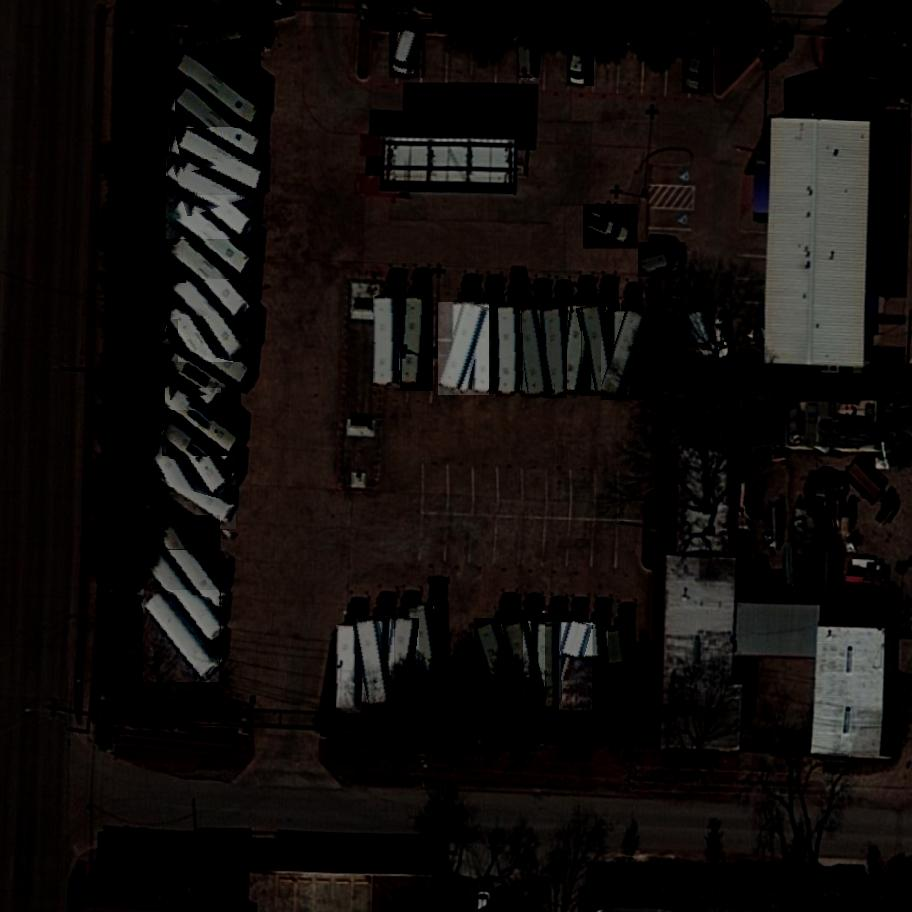large-vehicle: (164, 156, 257, 240), (142, 451, 240, 530), (166, 197, 259, 280), (159, 311, 257, 389), (167, 228, 251, 319), (141, 591, 223, 683), (145, 550, 223, 644), (172, 50, 265, 127), (149, 516, 224, 611), (164, 129, 268, 196), (176, 269, 250, 363), (170, 92, 267, 159), (157, 384, 244, 457), (164, 409, 232, 498), (438, 301, 490, 396), (601, 310, 654, 401), (406, 603, 449, 710), (474, 619, 524, 711), (546, 621, 594, 712), (163, 344, 226, 410), (503, 615, 546, 711), (582, 303, 621, 397), (356, 616, 395, 708), (515, 306, 553, 399), (560, 302, 597, 395), (397, 296, 433, 391), (383, 617, 420, 708), (374, 295, 402, 389), (604, 626, 633, 714), (580, 621, 608, 711), (542, 308, 568, 399), (336, 626, 361, 713), (497, 307, 521, 397), (474, 304, 498, 394), (535, 624, 559, 711), (191, 23, 250, 53)
small-vehicle: (582, 204, 640, 249), (682, 301, 720, 361), (390, 27, 427, 80), (639, 242, 687, 279), (682, 39, 714, 94), (567, 36, 595, 87), (712, 313, 734, 360), (517, 38, 538, 77)
